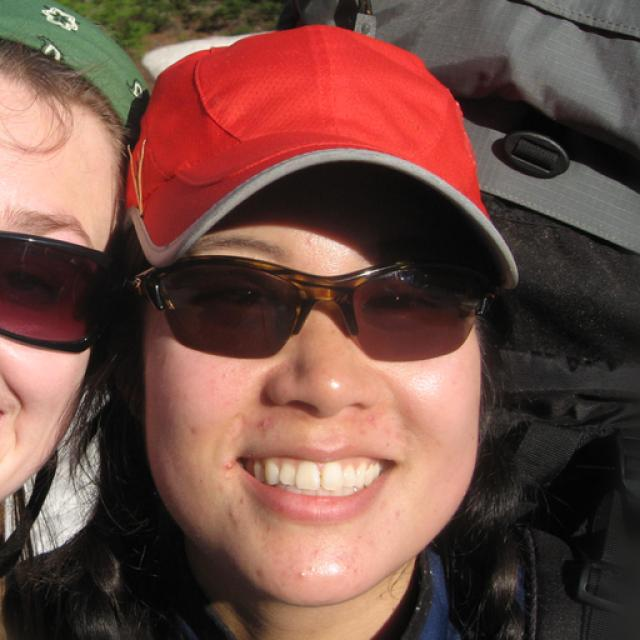Acne: (296, 233, 315, 250), (296, 563, 312, 581), (222, 460, 237, 474)
